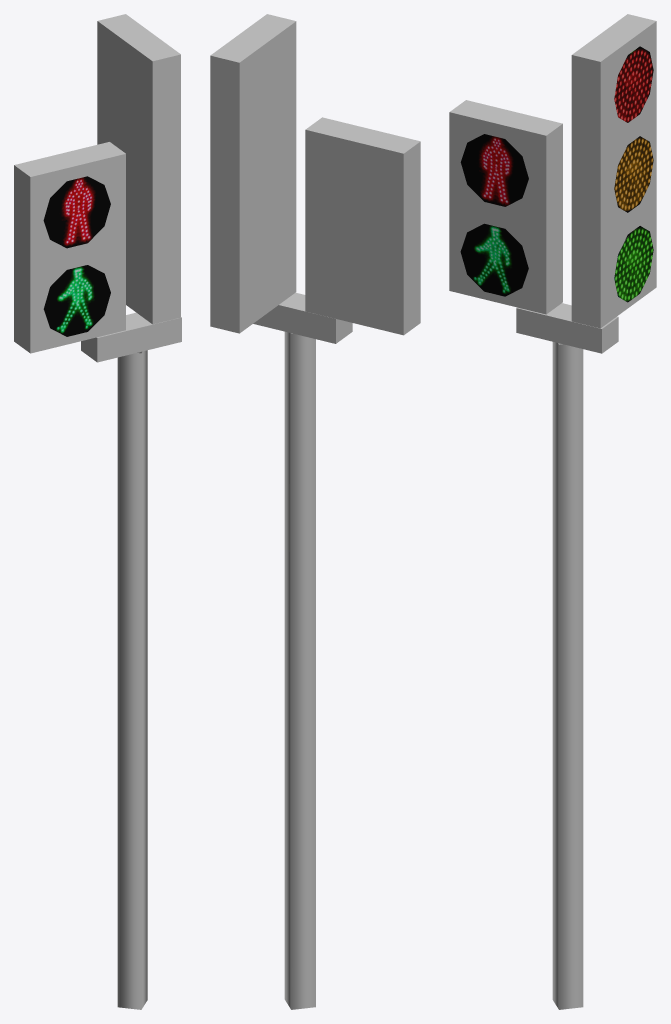
File: prop_trafficlight_LOD1.FBX
3 renders of one model, left to right at view 1: azimuth 30°, elevation 25°; view 2: azimuth 150°, elevation 25°; view 3: azimuth 330°, elevation 25°, orthographic. The views are drawn at different scales.
Visible parts, largest first — view 1: prop_trafficlight_LOD1, prop_trafficpede_red_LOD01, prop_trafficpede_green_LOD01; view 2: prop_trafficlight_LOD1; view 3: prop_trafficlight_LOD1, prop_trafficpede_green_LOD01, prop_trafficpede_red_LOD01, prop_trafficleds_orange_LOD01, prop_trafficleds_red_LOD01, prop_trafficleds_green_LOD01.
Part boxes in pixels (x1=…): prop_trafficlight_LOD1: x1=14, y1=14, x2=181, y2=1009; prop_trafficpede_red_LOD01: x1=43, y1=176, x2=110, y2=248; prop_trafficpede_green_LOD01: x1=43, y1=265, x2=110, y2=336; prop_trafficlight_LOD1: x1=210, y1=14, x2=420, y2=1009; prop_trafficlight_LOD1: x1=449, y1=14, x2=656, y2=1009; prop_trafficpede_green_LOD01: x1=460, y1=223, x2=528, y2=296; prop_trafficpede_red_LOD01: x1=460, y1=134, x2=528, y2=206; prop_trafficleds_orange_LOD01: x1=614, y1=136, x2=653, y2=212; prop_trafficleds_red_LOD01: x1=614, y1=46, x2=653, y2=122; prop_trafficleds_green_LOD01: x1=614, y1=226, x2=653, y2=302.
Bounding box in the file's own units: 23.06 × 136 × 14.6.
